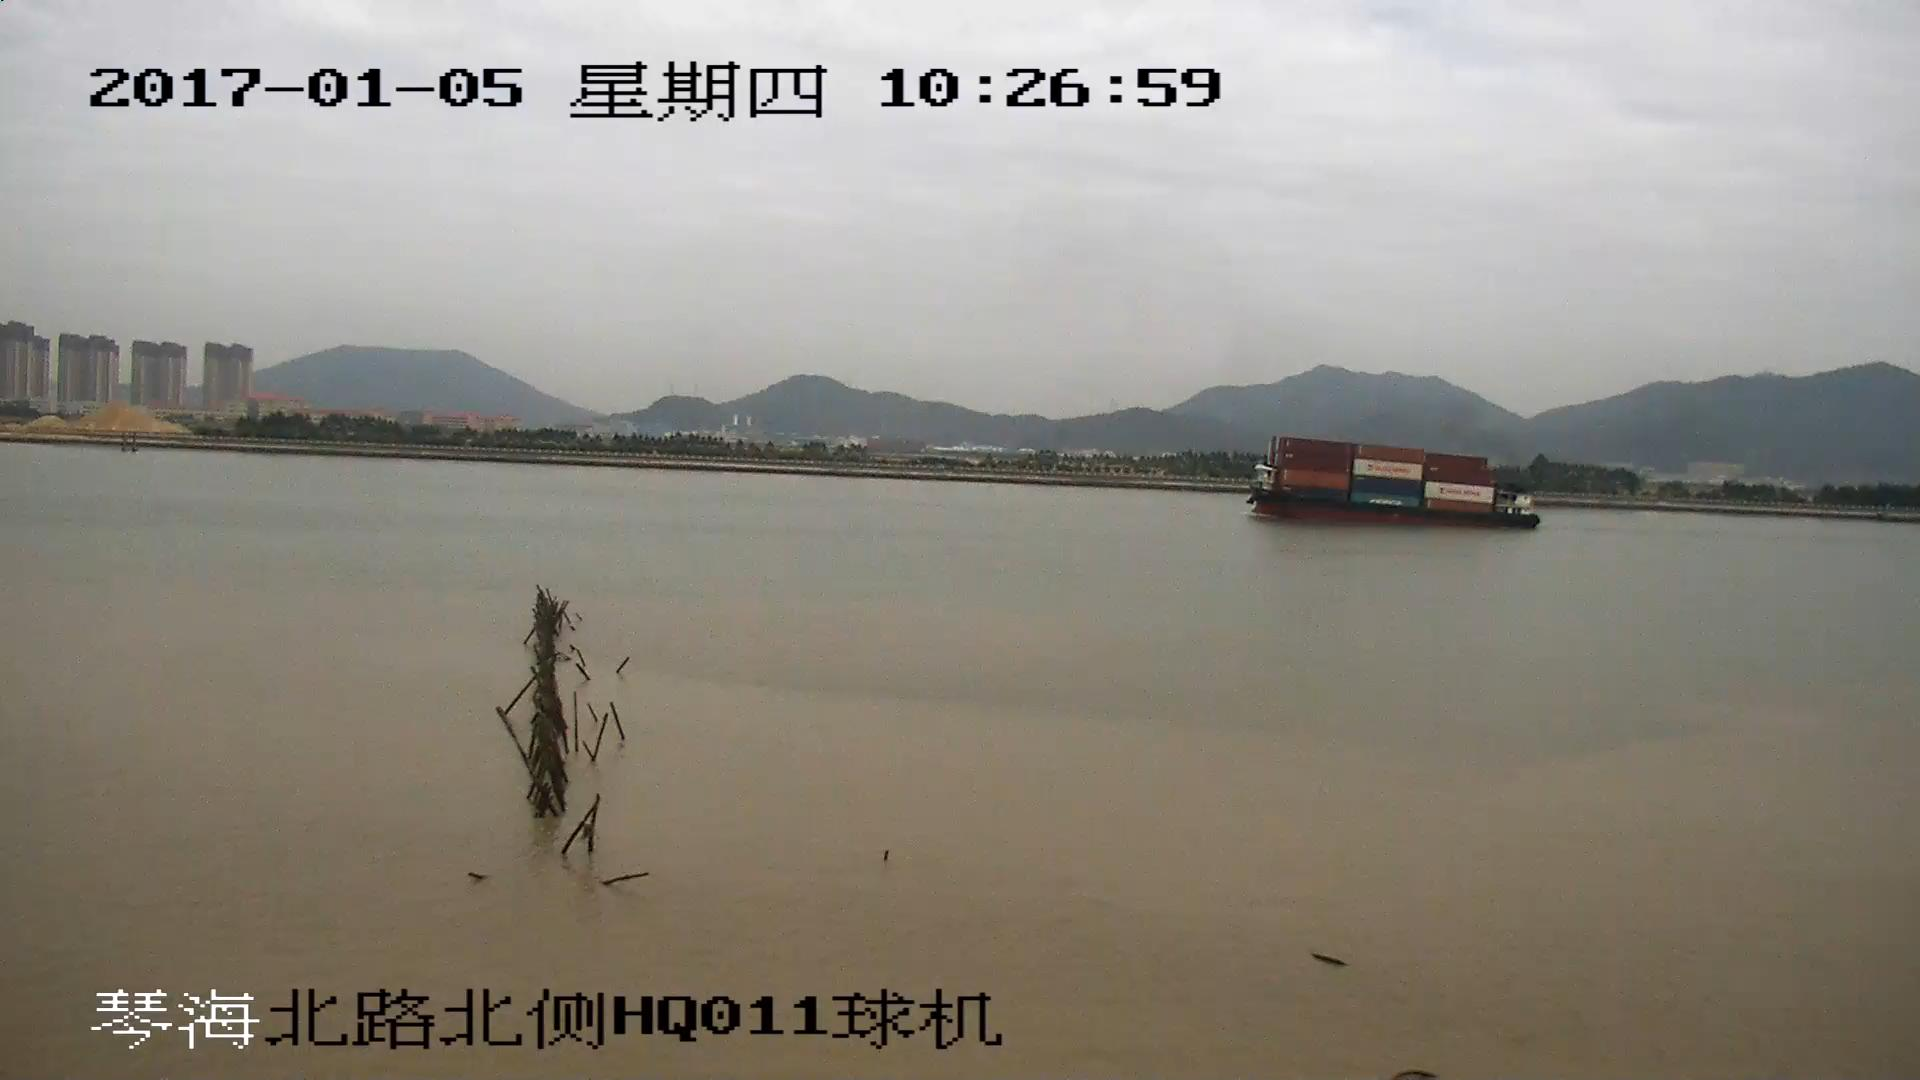container ship: (1245, 439, 1537, 532)
